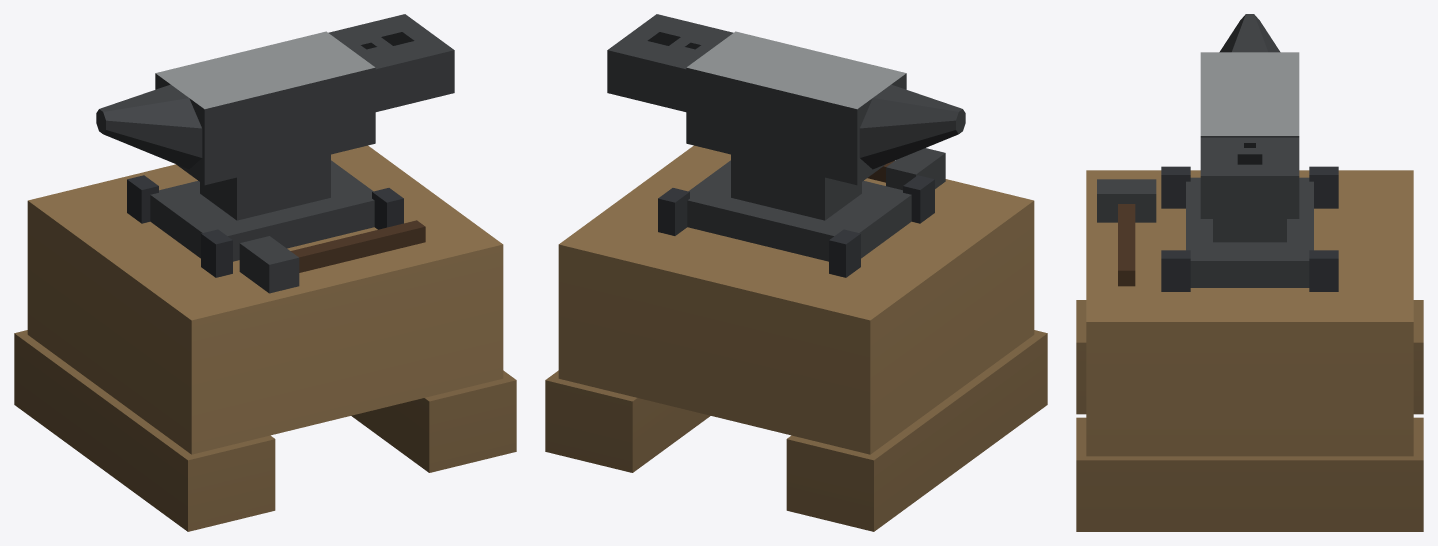
File: tool.anvil.worn.glb
The picture shows the model from 3 angles, left to right: view 1: azimuth 30°, elevation 25°; view 2: azimuth 150°, elevation 25°; view 3: azimuth 270°, elevation 25°; orthographic projection.
Visible parts, largest first — view 1: tool_anvil_worn; view 2: tool_anvil_worn; view 3: tool_anvil_worn.
Part boxes in pixels (<box>): tool_anvil_worn: <box>14,14,516,531</box>; tool_anvil_worn: <box>545,14,1047,531</box>; tool_anvil_worn: <box>1076,14,1423,531</box>.
Size of what is drawn, in the model's own units: 0.769 by 0.8 by 0.704.
